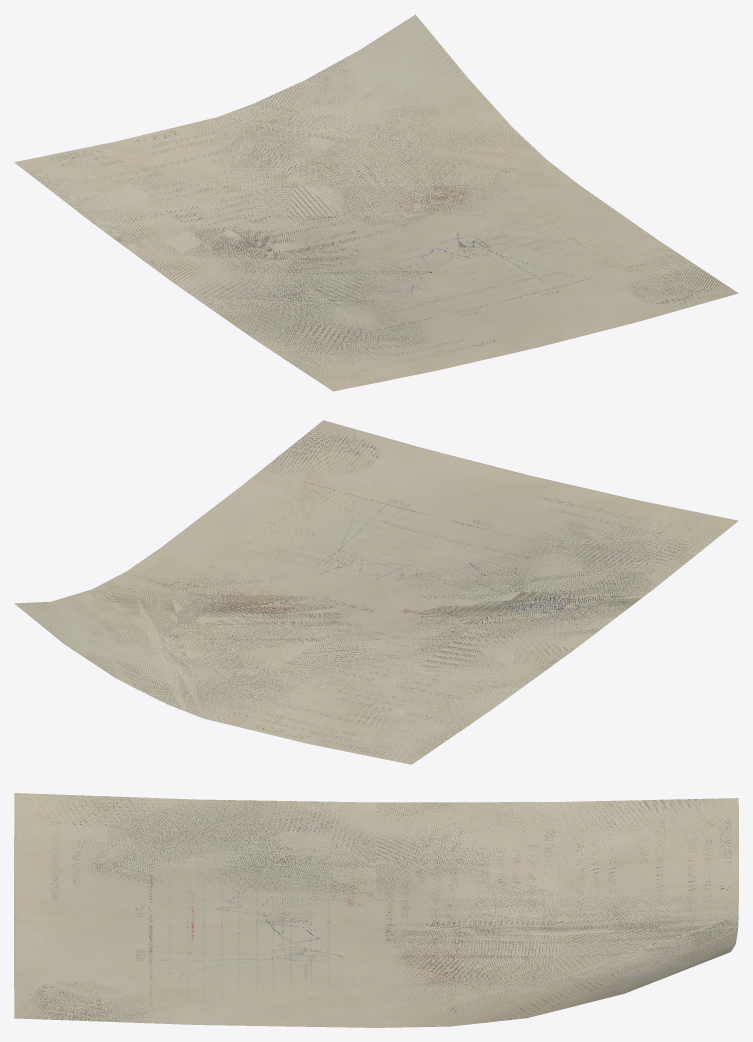
The model's file is upsilon_information_06.dae.
The picture shows the model from 3 angles, top to bottom: view 1: azimuth 30°, elevation 25°; view 2: azimuth 150°, elevation 25°; view 3: azimuth 270°, elevation 25°; orthographic projection. The views are drawn at different scales.
Parts seen in each view (by area): view 1: report; view 2: report; view 3: report.
Boxes of the visible parts, <box> form: report: <box>14,14,738,391</box>; report: <box>14,420,738,764</box>; report: <box>14,793,738,1027</box>.
Size of the model in its own units: 0.3849 by 0.0598 by 0.5251.
